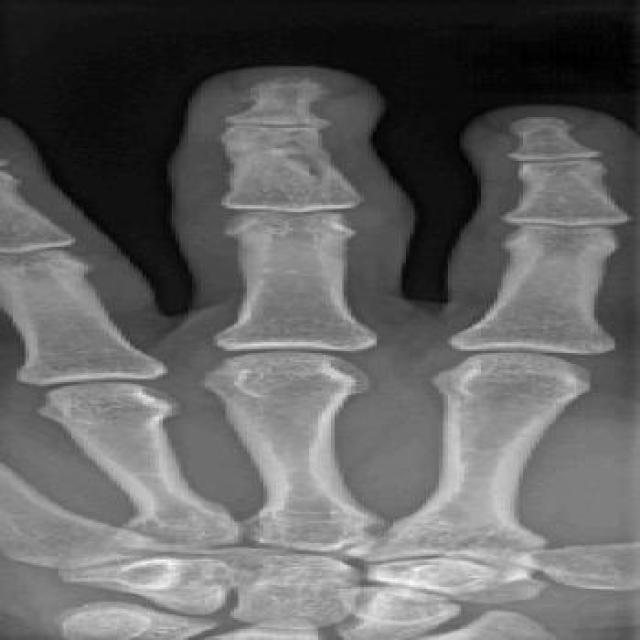Fracture: (235, 131, 357, 182)
